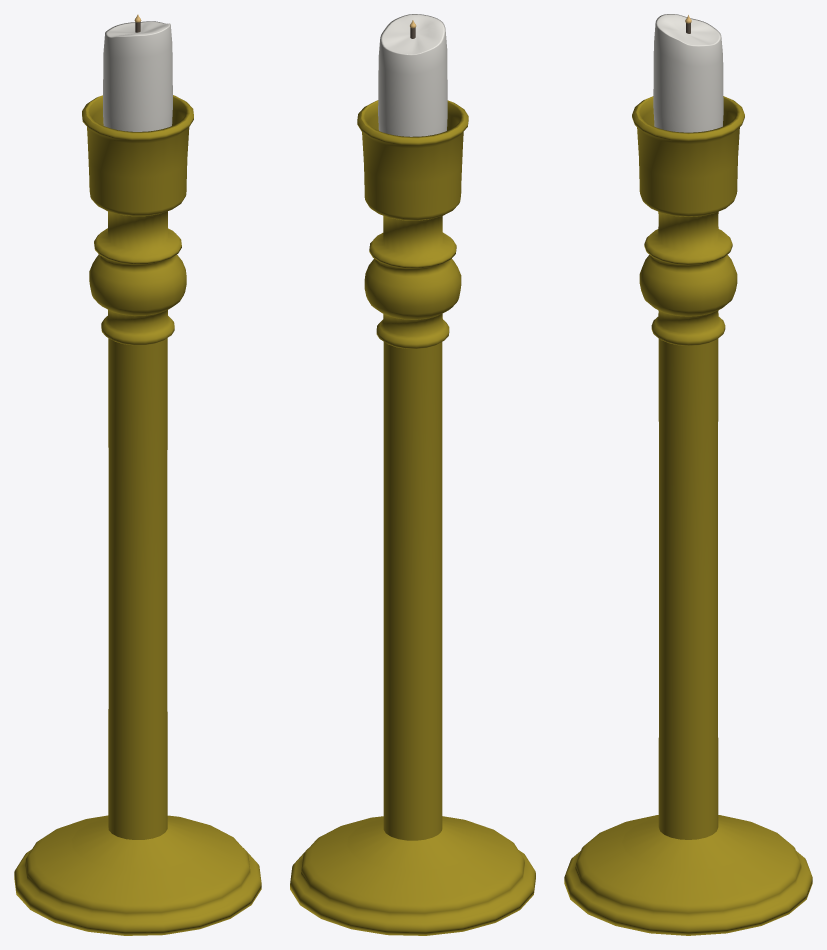
Rendered from Candelabro.fbx.
The picture shows the model from 3 angles, left to right: view 1: azimuth 30°, elevation 25°; view 2: azimuth 150°, elevation 25°; view 3: azimuth 270°, elevation 25°; orthographic projection.
Parts seen in each view (by area): view 1: polySurface2; view 2: polySurface2; view 3: polySurface2.
Boxes of the visible parts, <box> form: polySurface2: <box>14,14,261,935</box>; polySurface2: <box>290,14,535,935</box>; polySurface2: <box>564,14,812,935</box>.
Size of the model in its own units: 2.24 by 8.65 by 2.24.
